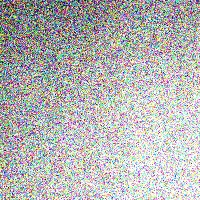pitted_surface: (132, 19, 197, 188), (7, 36, 145, 102), (69, 102, 136, 183), (2, 90, 48, 200)
